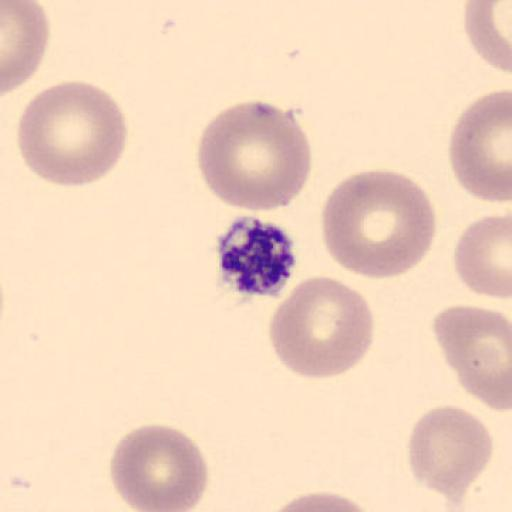Platelet: (213, 214, 300, 298)
RBC: (319, 168, 439, 281), (196, 99, 313, 213), (15, 78, 130, 190), (268, 274, 376, 380), (108, 421, 209, 512), (406, 403, 494, 505), (432, 304, 512, 414), (448, 89, 512, 203), (452, 213, 512, 299), (2, 0, 52, 96), (462, 0, 512, 75), (257, 491, 383, 512)
